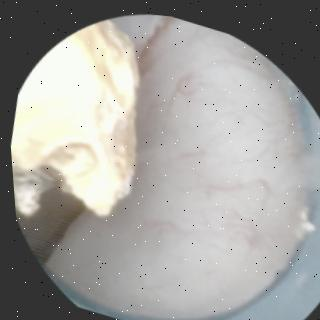stone: (8, 18, 137, 211)
tissue: (24, 12, 302, 310)
